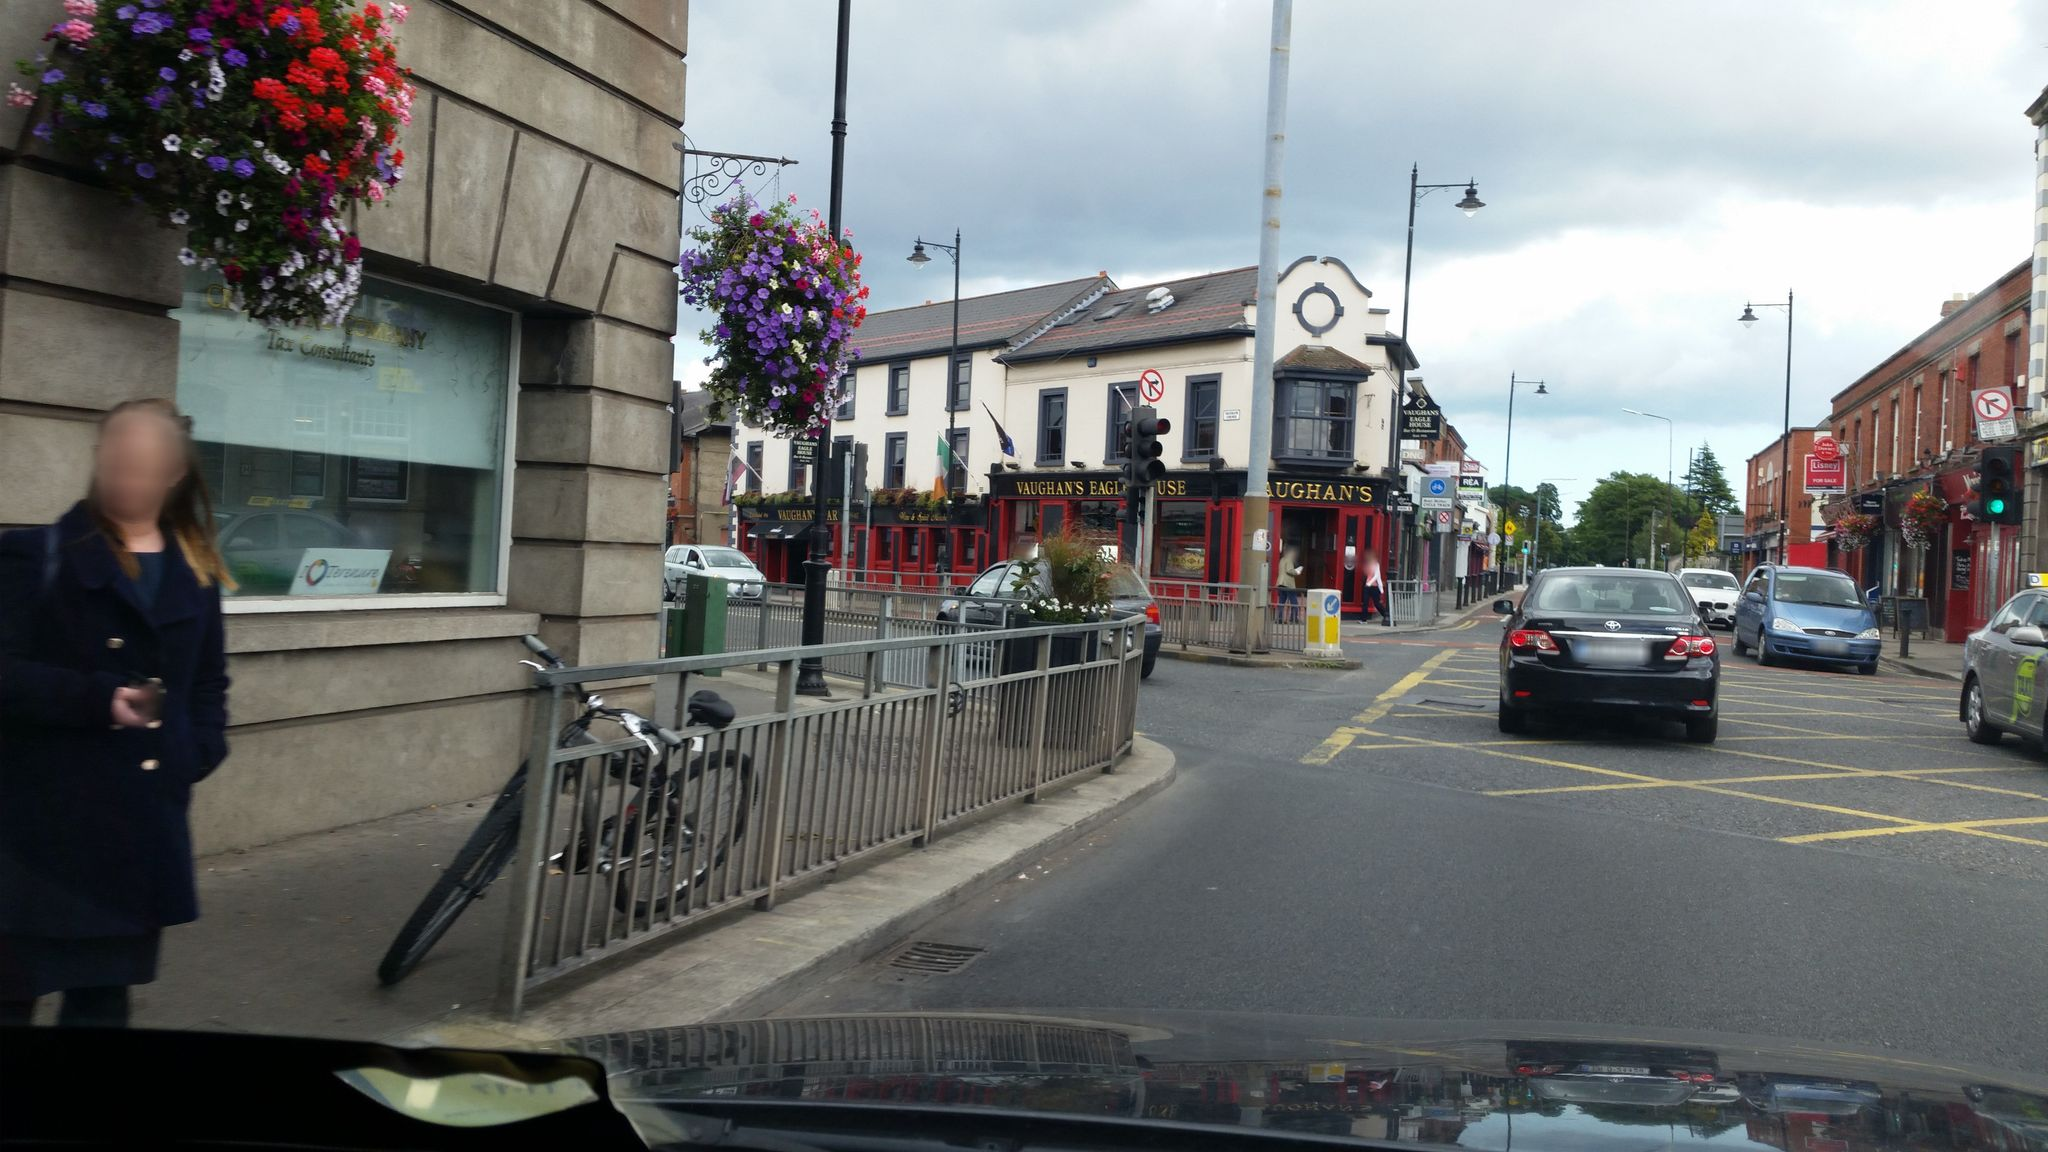property sign: (1791, 437, 1854, 506), (1438, 461, 1494, 520)
